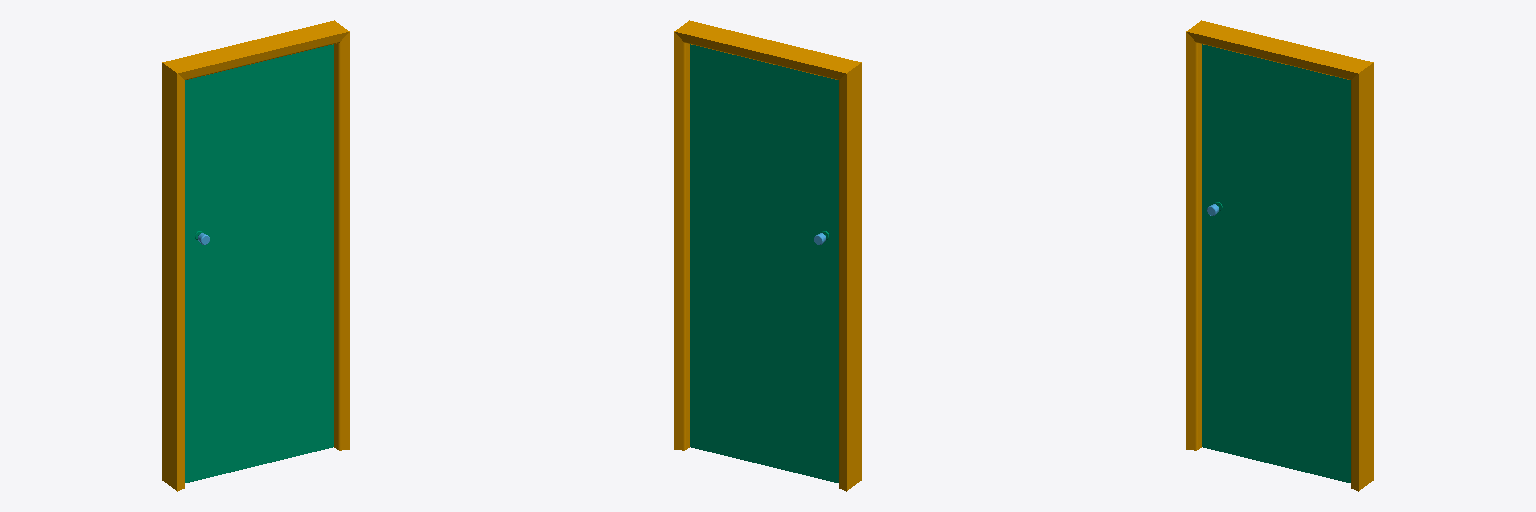
The robot description file, URDF, robot "8903":
<?xml version="1.0" ?>
<robot name="8903" version="1.0">
  <link name="base_link">
    <visual name="link_0___1">
      <origin rpy="0.0 0.0 0.0" xyz="0.0 -0.0 0.0"/>
      <geometry>
        <mesh filename="shape/visual/link_0_m1_vm.obj"/>
      </geometry>
    </visual>
    <collision>
      <origin rpy="0.0 0.0 0.0" xyz="0.0 -0.0 0.0"/>
      <geometry>
        <mesh filename="shape/collision/link_0_cm.obj"/>
      </geometry>
    </collision>
  </link>
  <link name="link_1">
    <visual name="link_1___2">
      <origin rpy="0.0 0.0 0.0" xyz="0.2718480576000603 0.07412800192832969 -0.14707143841511927"/>
      <geometry>
        <mesh filename="shape/visual/link_1_m2_vm.obj"/>
      </geometry>
    </visual>
    <collision>
      <origin rpy="0.0 0.0 0.0" xyz="0.2718480576000603 0.07412800192832969 -0.14707143841511927"/>
      <geometry>
        <mesh filename="shape/collision/link_1_cm.obj"/>
      </geometry>
    </collision>
  </link>
  <link name="link_2">
    <visual name="link_2___1">
      <origin rpy="0.0 0.0 0.0" xyz="-0.37034833274488377 0.0017434567958520795 -0.8958240151405333"/>
      <geometry>
        <mesh filename="shape/visual/link_2_m1_vm.obj"/>
      </geometry>
    </visual>
    <visual name="link_2___2">
      <origin rpy="0.0 0.0 0.0" xyz="-0.37034833274488377 0.0017434567958520795 -0.8958240151405333"/>
      <geometry>
        <mesh filename="shape/visual/link_2_m2_vm.obj"/>
      </geometry>
    </visual>
    <collision>
      <origin rpy="0.0 0.0 0.0" xyz="-0.37034833274488377 0.0017434567958520795 -0.8958240151405333"/>
      <geometry>
        <mesh filename="shape/collision/link_2_cm.obj"/>
      </geometry>
    </collision>
  </link>
  <joint name="joint_1" type="revolute">
    <origin rpy="0.0 0.0 0.0" xyz="-0.6421963903449441 -0.0723845451324776 -0.7487525767254141"/>
    <axis xyz="0.0 -1.0 0.0"/>
    <parent link="link_2"/>
    <child link="link_1"/>
    <limit lower="0.0" upper="1.5707963267948966"/>
  </joint>
  <joint name="joint_2" type="revolute">
    <origin rpy="0.0 0.0 0.0" xyz="0.37034833274488377 -0.0017434567958520795 0.8958240151405333"/>
    <axis xyz="0.0 -0.0 0.9999999999999999"/>
    <parent link="base_link"/>
    <child link="link_2"/>
    <limit lower="0.0" upper="1.5707963267948966"/>
  </joint>
</robot>

--- Render facts (derived) ---
Views: 3 orthographic renders of the robot side by side, from view 1: azimuth 30°, elevation 25°; view 2: azimuth 150°, elevation 25°; view 3: azimuth 330°, elevation 25°.
Model 8903 with 3 links and 2 joints (2 revolute), rooted at base_link, posed all joints at 0.
Visible links, largest first — view 1: link_2, base_link; view 2: link_2, base_link; view 3: link_2, base_link.
Link boxes in pixels (left/top/right/bottom): link_2: left=185, top=44, right=333, bottom=482; base_link: left=162, top=20, right=349, bottom=491; link_2: left=690, top=44, right=838, bottom=482; base_link: left=674, top=20, right=861, bottom=491; link_2: left=1202, top=44, right=1350, bottom=482; base_link: left=1186, top=20, right=1373, bottom=491.
Bounding box of the posed robot: 0.7833 × 0.1453 × 1.82 m (x, y, z).
Meshes: 4 distinct files referenced, 4 mesh visuals loaded (4 OBJ).